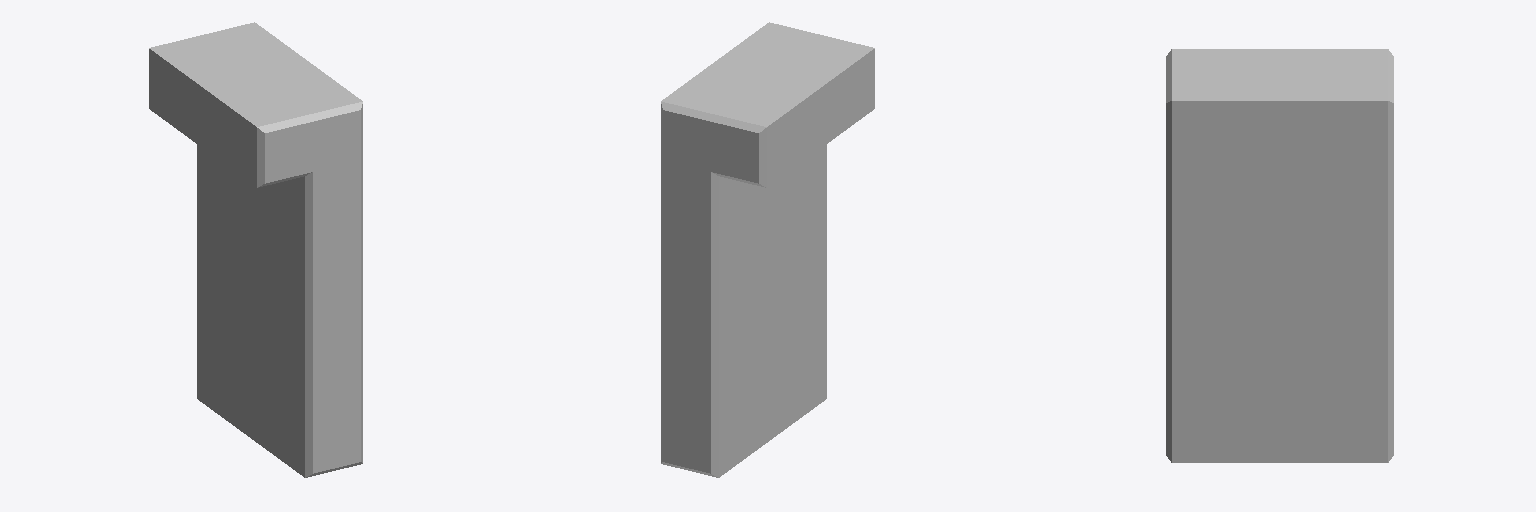
File: trouble_zero.obj
The picture shows the model from 3 angles: view 1: azimuth 30°, elevation 25°; view 2: azimuth 150°, elevation 25°; view 3: azimuth 270°, elevation 25°; orthographic projection.
Visible parts, largest first — view 1: Text; view 2: Text; view 3: Text.
Boxes of the visible parts, box(x1,y1,x2,y2) form: Text: box(149, 22, 362, 477); Text: box(661, 22, 874, 477); Text: box(1166, 49, 1393, 462).
Bounding box in the file's own units: 0.0849 × 0.2772 × 0.158.